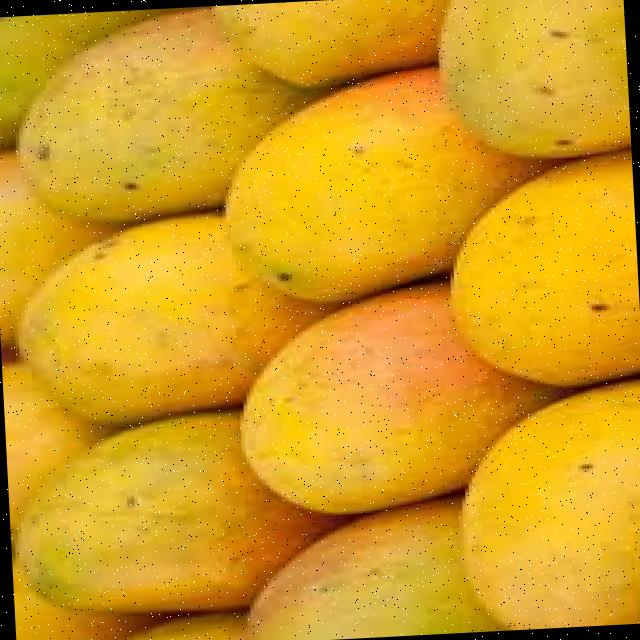mango: (242, 273, 582, 514)
